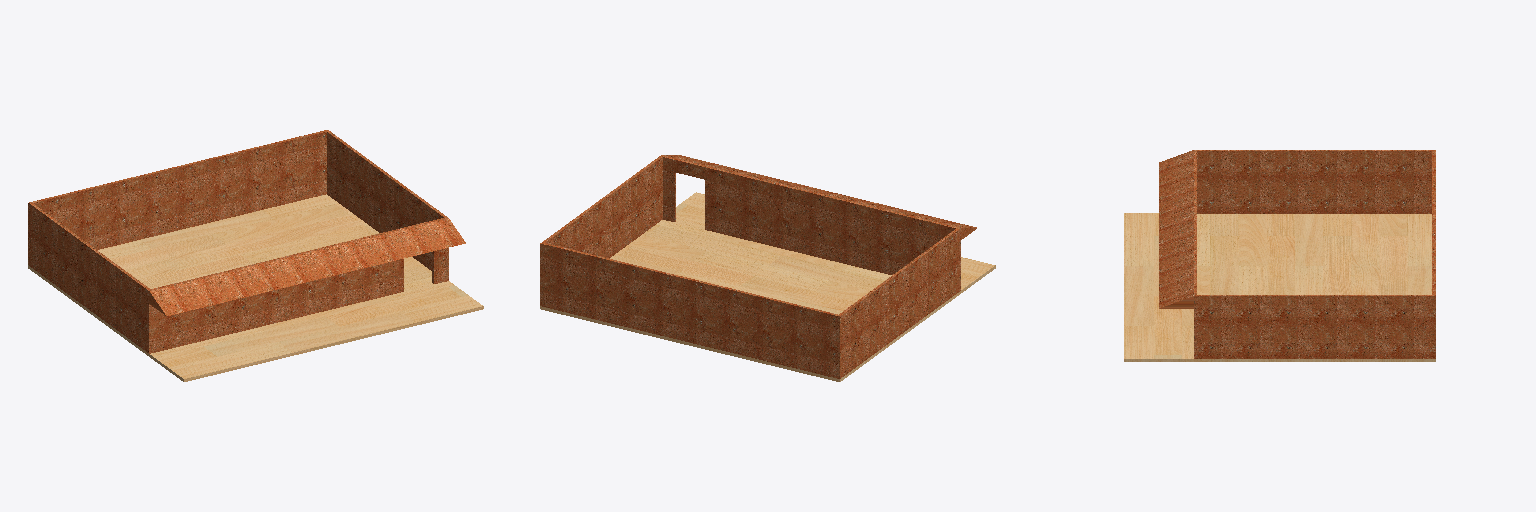
The picture shows the model from 3 angles: view 1: azimuth 30°, elevation 25°; view 2: azimuth 150°, elevation 25°; view 3: azimuth 270°, elevation 25°; orthographic projection.
Parts seen in each view (by area): view 1: |Assem1|Root|wall-1|old_english_brick_2d, |Assem1|Root|floor-1|laminate3_2d, |Assem1|Root|ledge-2|flemish_brick_2d; view 2: |Assem1|Root|wall-1|old_english_brick_2d, |Assem1|Root|floor-1|laminate3_2d, |Assem1|Root|ledge-2|flemish_brick_2d; view 3: |Assem1|Root|wall-1|old_english_brick_2d, |Assem1|Root|floor-1|laminate3_2d, |Assem1|Root|ledge-2|flemish_brick_2d.
Boxes of the visible parts, <box> form: |Assem1|Root|wall-1|old_english_brick_2d: <box>28,130,448,353</box>; |Assem1|Root|floor-1|laminate3_2d: <box>28,194,483,381</box>; |Assem1|Root|ledge-2|flemish_brick_2d: <box>149,218,465,315</box>; |Assem1|Root|wall-1|old_english_brick_2d: <box>540,155,960,378</box>; |Assem1|Root|floor-1|laminate3_2d: <box>540,192,995,381</box>; |Assem1|Root|ledge-2|flemish_brick_2d: <box>664,155,976,239</box>; |Assem1|Root|wall-1|old_english_brick_2d: <box>1194,150,1435,358</box>; |Assem1|Root|floor-1|laminate3_2d: <box>1124,213,1435,361</box>; |Assem1|Root|ledge-2|flemish_brick_2d: <box>1159,150,1193,308</box>.
Bounding box in the file's own units: 1 × 0.21 × 0.9.
3 materials, 2 textured.